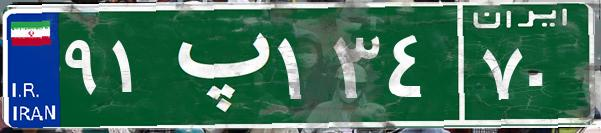0: (525, 38, 570, 115)
1: (273, 28, 330, 110), (110, 28, 158, 105)
3: (330, 28, 385, 110)
4: (385, 28, 445, 110)
7: (475, 38, 525, 113)
9: (57, 26, 110, 107)
پ: (158, 15, 273, 115)
